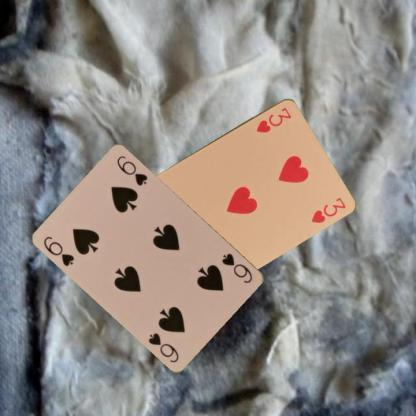3h: (254, 105, 293, 134)
6s: (219, 250, 254, 285), (41, 234, 76, 268)
